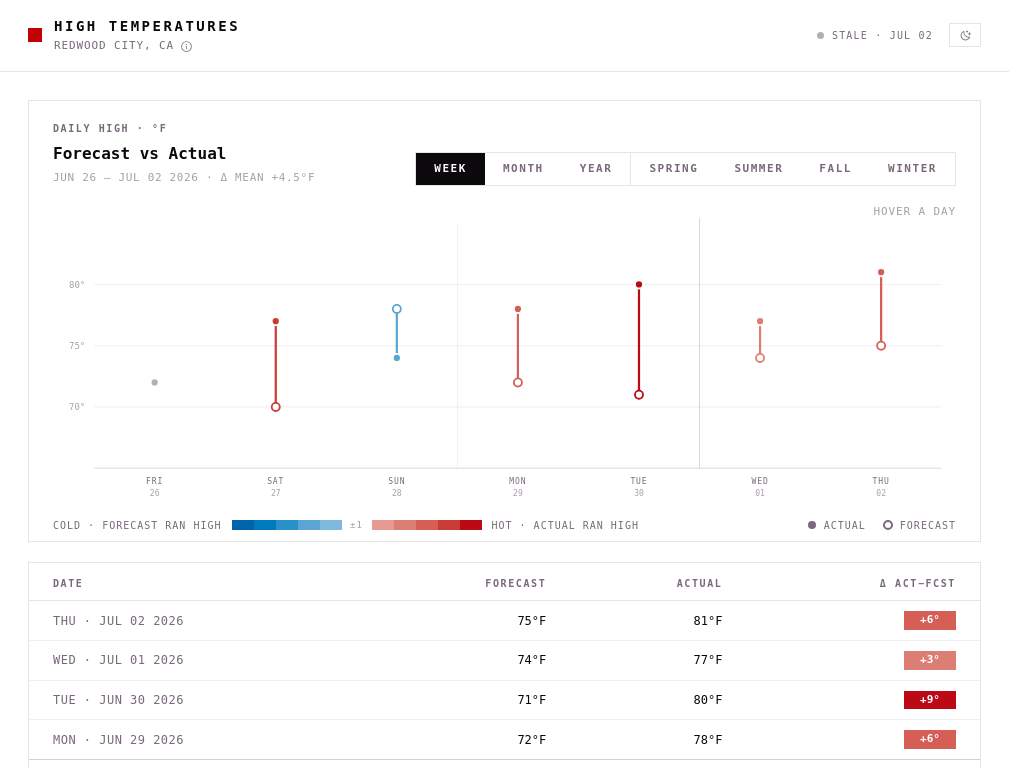
about dialog › shows the about text
Click the button named "About this site" at (186, 46), box [180,40,193,53]
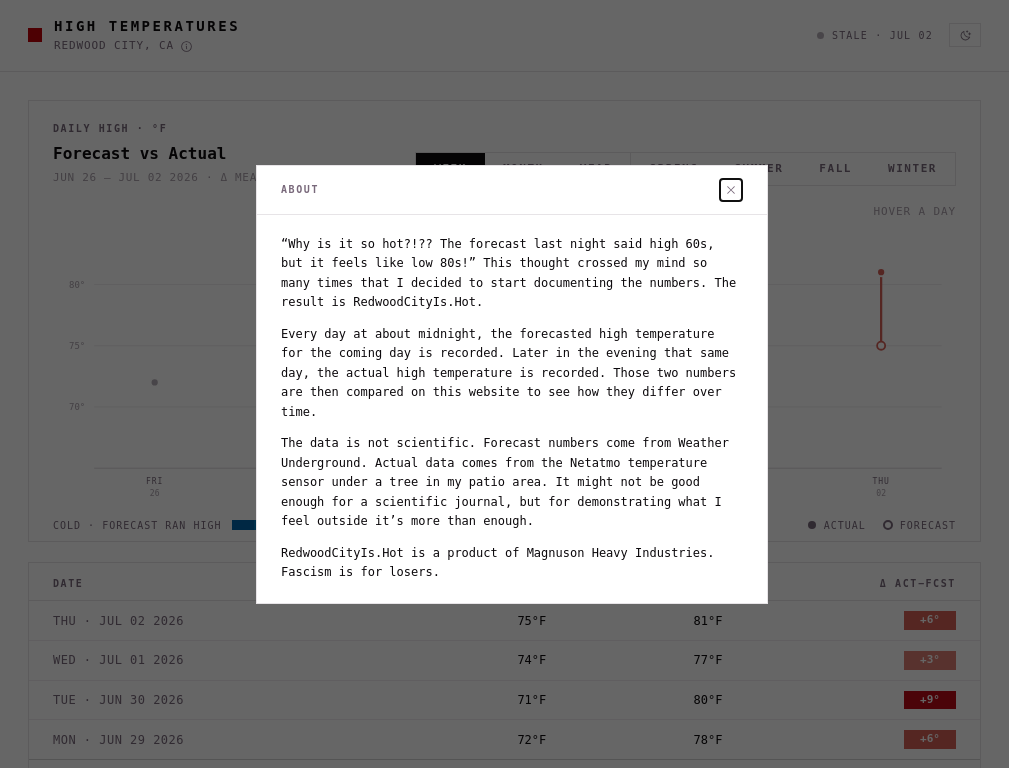
Expected: the text "The result is RedwoodCityIs.Hot." is shown, [281,236,736,309]
Expected: the text "Forecast numbers come from Weather Underground" is shown, [281,436,729,528]
Expected: the text "Fascism is for losers." is shown, [281,546,714,579]
